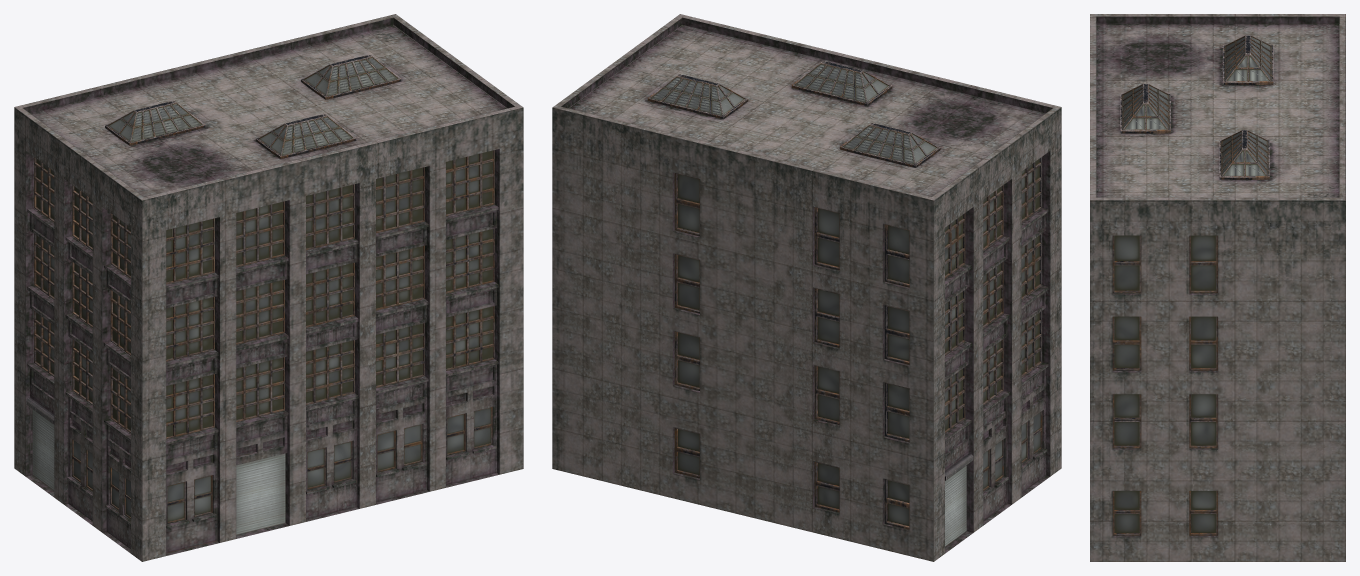
The model's file is realistic_building.glb.
The picture shows the model from 3 angles, left to right: view 1: azimuth 30°, elevation 25°; view 2: azimuth 150°, elevation 25°; view 3: azimuth 270°, elevation 25°; orthographic projection.
Parts seen in each view (by area): view 1: Cube_0, Cube.002_2, Cube.001_1, Cube.003_3; view 2: Cube_0, Cube.002_2, Cube.003_3, Cube.001_1; view 3: Cube_0, Cube.002_2, Cube.003_3, Cube.001_1.
Part boxes in pixels (x1,y1,x2,y2): Cube_0: [14, 14, 523, 561]; Cube.002_2: [255, 113, 356, 158]; Cube.001_1: [105, 100, 205, 145]; Cube.003_3: [301, 54, 401, 99]; Cube_0: [552, 14, 1061, 561]; Cube.002_2: [791, 61, 892, 106]; Cube.003_3: [647, 74, 748, 119]; Cube.001_1: [840, 122, 940, 167]; Cube_0: [1090, 14, 1345, 561]; Cube.002_2: [1120, 84, 1170, 133]; Cube.003_3: [1219, 130, 1269, 179]; Cube.001_1: [1223, 35, 1273, 84].
Size of the model in its own units: 6.81 by 6.4 by 3.95.
4 materials, 4 textured.
